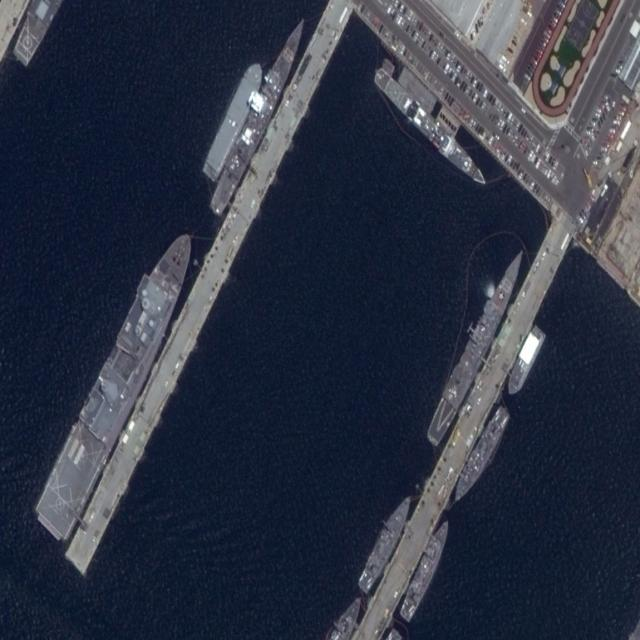Auxiliary Ships: (29, 216, 207, 548)
Frigate: (206, 10, 312, 220), (422, 243, 530, 449)
Other Ship: (371, 60, 489, 192), (200, 54, 268, 184), (449, 399, 513, 511), (355, 487, 417, 599), (397, 515, 454, 625), (503, 321, 547, 401)
